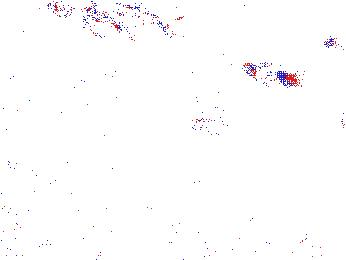X-ray fish: (182, 103, 246, 136)
redtail glassfish: (83, 4, 182, 39), (47, 1, 143, 37), (241, 57, 298, 90)
